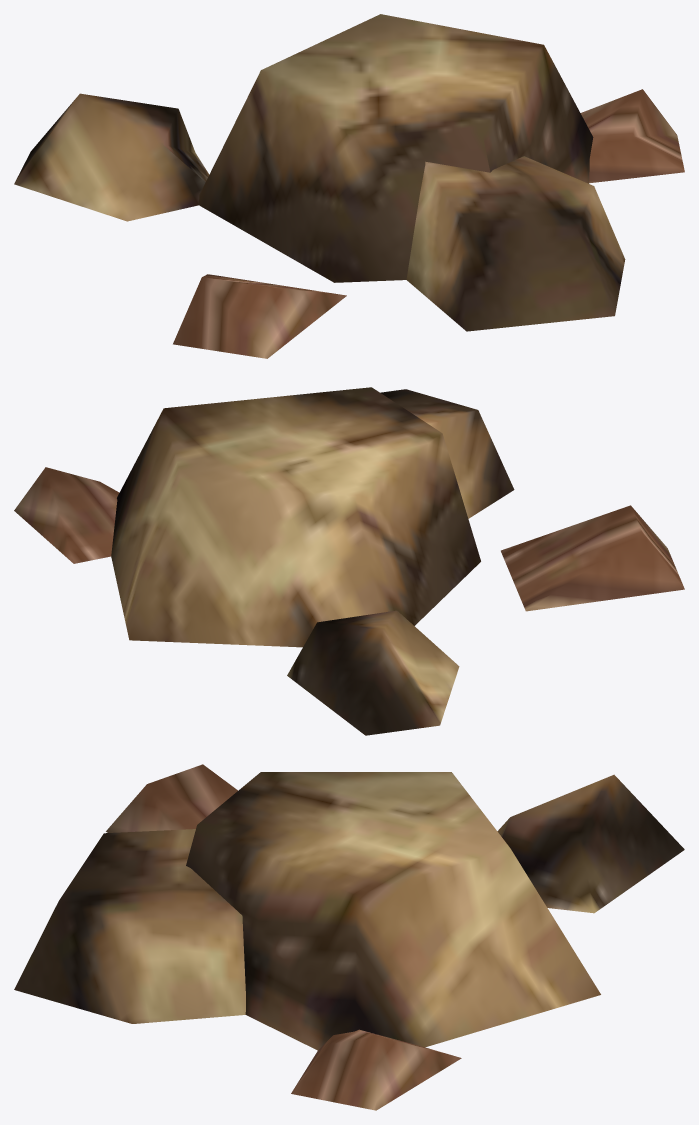
Rendered from dec_red_stone_04_50908.glb.
3 views of the same model, one above another, from view 1: azimuth 30°, elevation 25°; view 2: azimuth 150°, elevation 25°; view 3: azimuth 270°, elevation 25° (orthographic). The views are drawn at different scales.
Parts seen in each view (by area): view 1: red_stone_04_mesh; view 2: red_stone_04_mesh; view 3: red_stone_04_mesh.
Boxes of the visible parts, <box> form: red_stone_04_mesh: <box>14,14,684,358</box>; red_stone_04_mesh: <box>14,387,684,735</box>; red_stone_04_mesh: <box>14,764,684,1110</box>.
Bounding box in the file's own units: 1.18 × 0.2506 × 1.08.
Materials: 1 (1 with a texture image).
